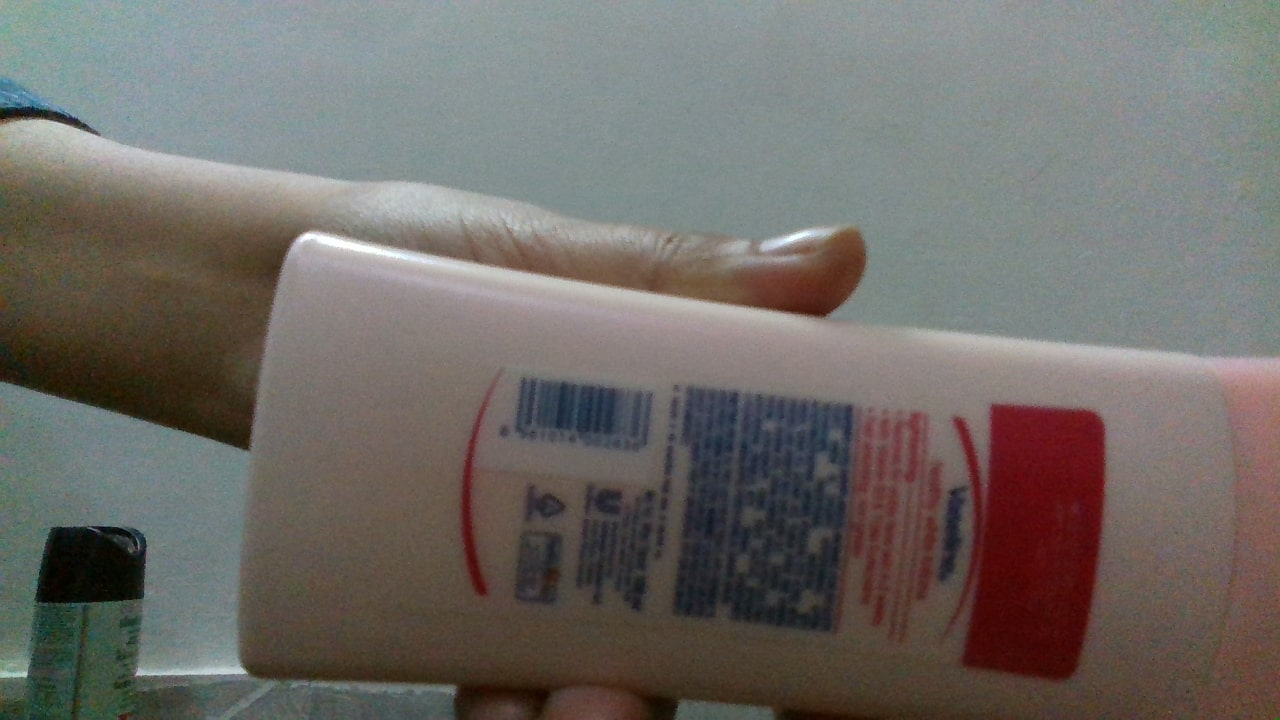Barcode: (514, 371, 652, 453)
